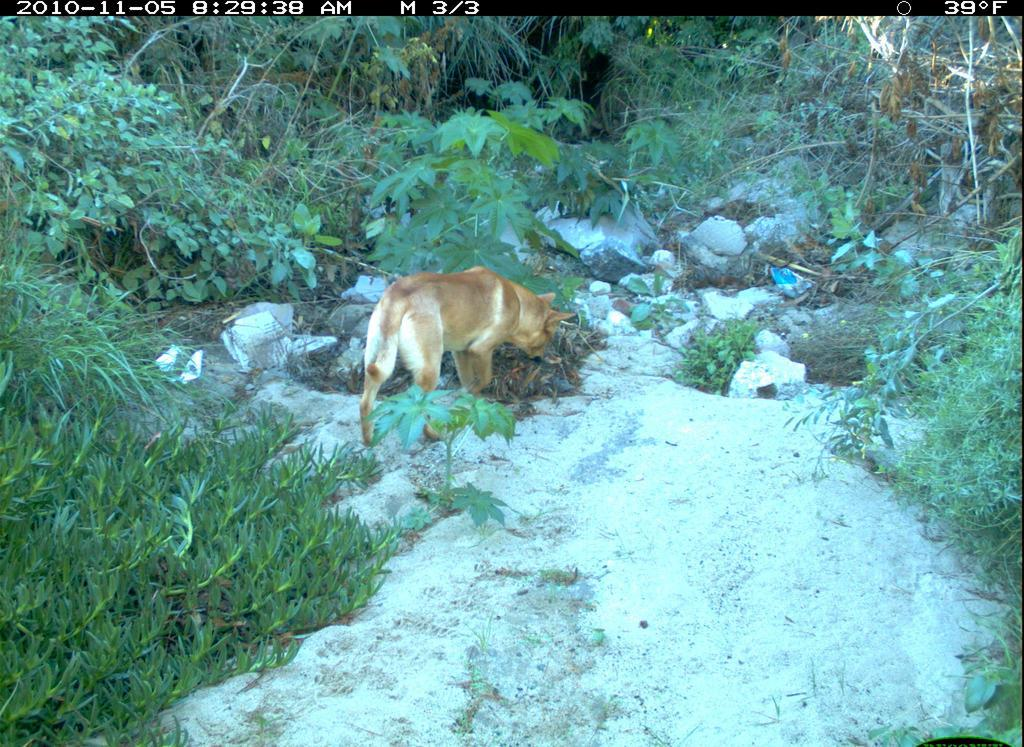dog: (356, 262, 582, 446)
